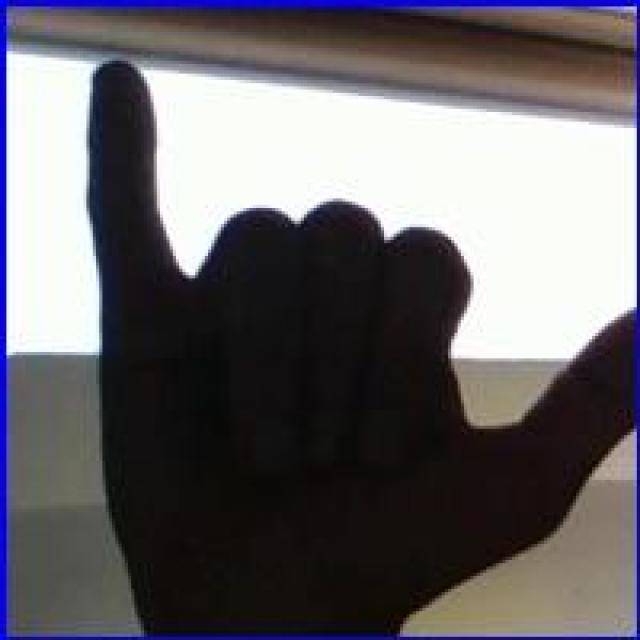Y: (80, 53, 630, 616)
